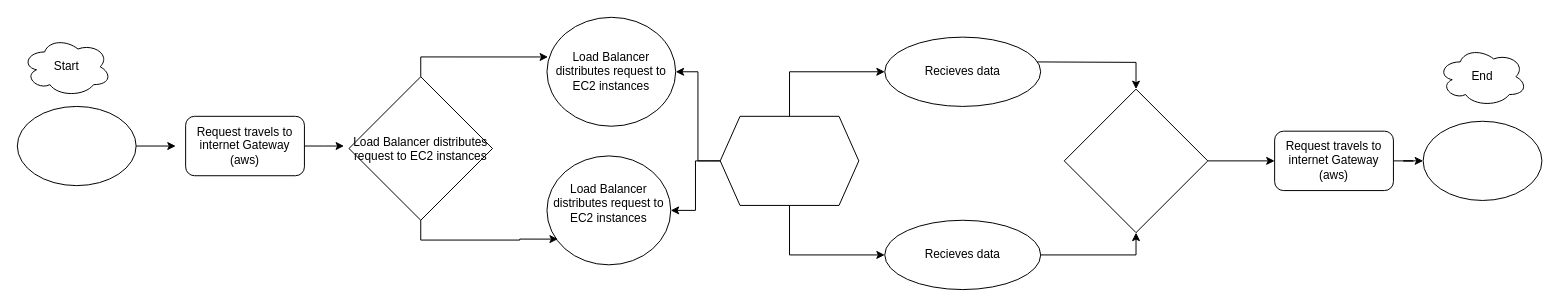
Image size: 1559x307. Some labels were removed from this diagram. The shapes that lost their labels are listed below. From the top down, each one's centre as x and y in pixels, then its label:
At (76,145): "User sends request to internet".
At (789,160): "Database returns data to EC2:s".
At (1135,160): "recieves data, sent through Load Balancer".
At (1482,160): "User gets the response".
